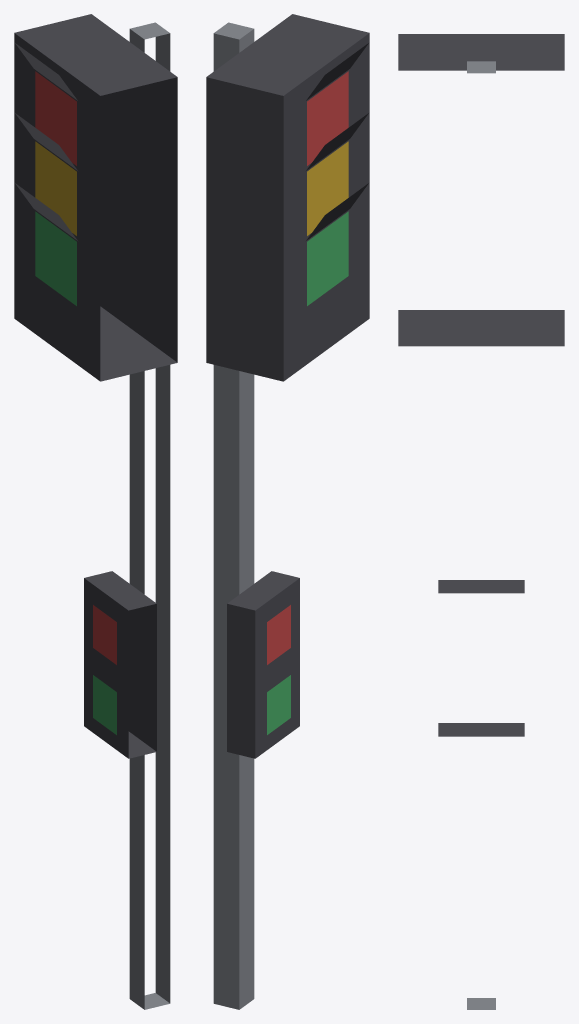
Rendered from traffic_light_eu.glb.
3 renders of one model, left to right at view 1: azimuth 30°, elevation 25°; view 2: azimuth 150°, elevation 25°; view 3: azimuth 270°, elevation 25°, orthographic. The views are drawn at different scales.
Visible parts, largest first — view 1: asset; view 2: asset; view 3: asset.
Part boxes in pixels (left/top/right/bottom): asset: left=14, top=14, right=177, bottom=1009; asset: left=206, top=14, right=369, bottom=1009; asset: left=398, top=34, right=564, bottom=1009.
Size of the model in its own units: 0.49 by 3.6 by 0.58.
